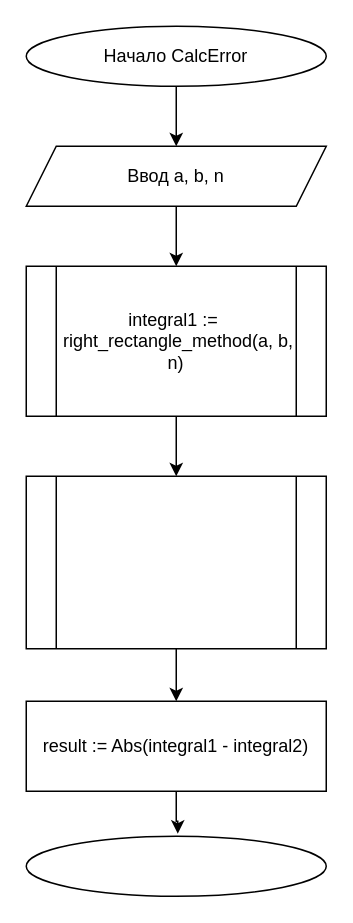
This 353x923 diagram has some shape labels left out. The centre of each missing label's shape, as x and y in pixels:
"integral2 := right_rectangle_method(a, b, n * 2)" goes at (175,562).
"Возврат result" goes at (175,865).
